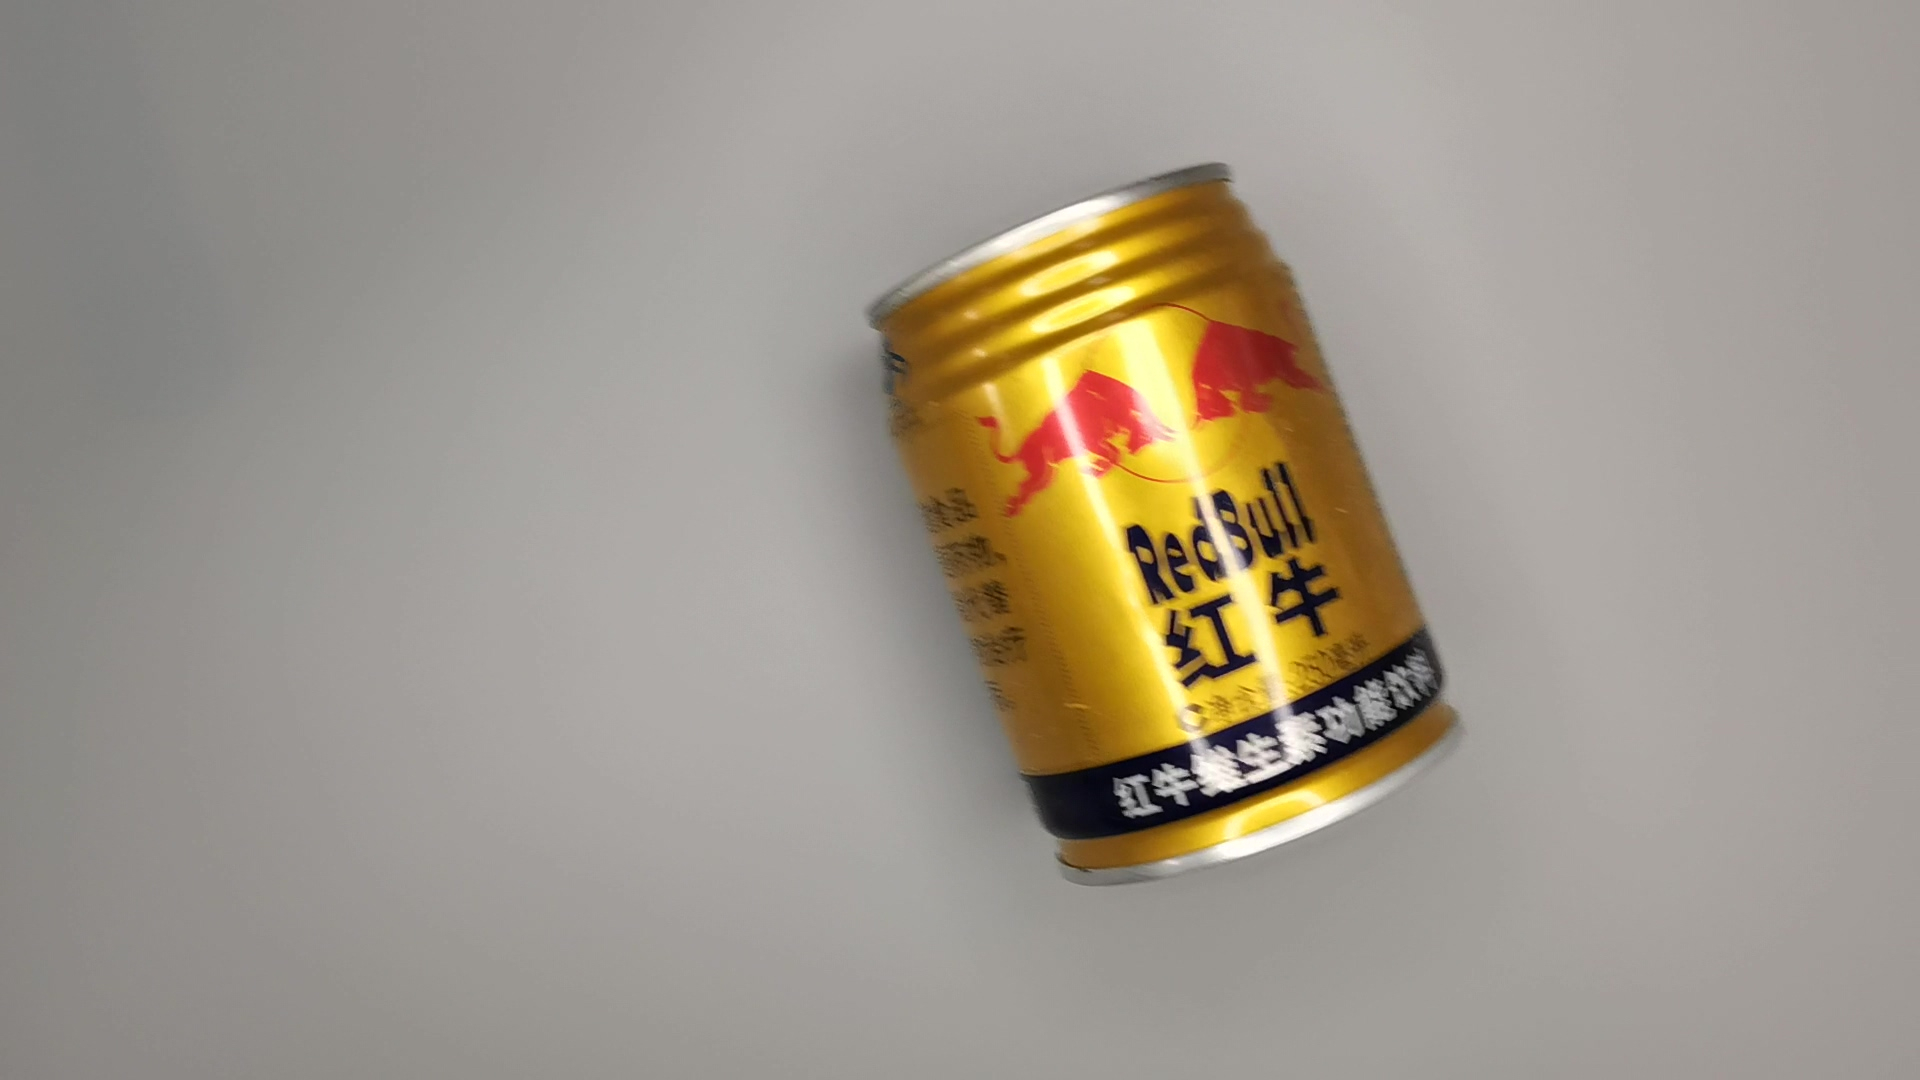can: (856, 135, 1482, 911)
